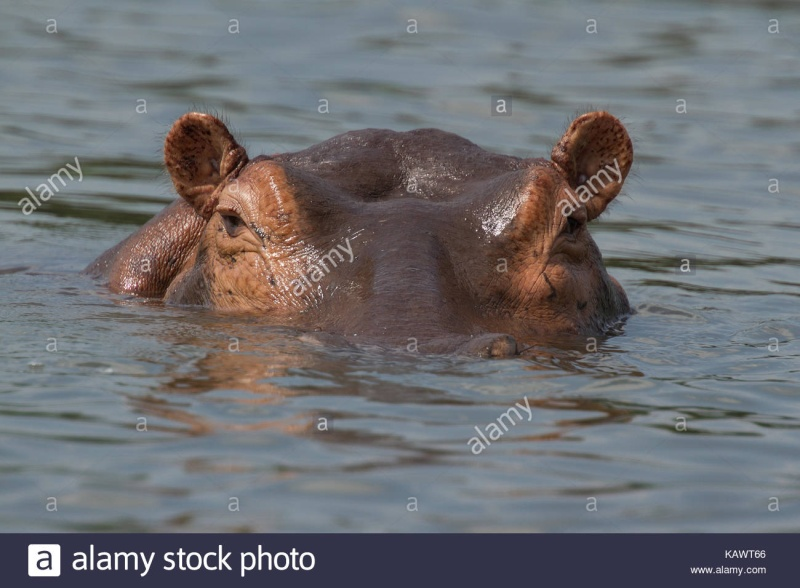hipopotamo: (88, 101, 646, 357)
